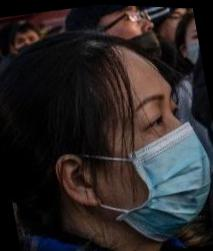OK: (85, 65, 213, 249)
WRONG: (105, 5, 165, 69)
